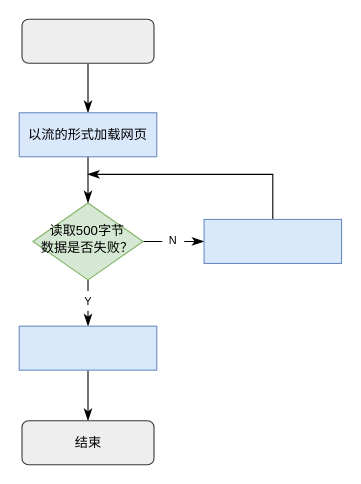
This 361x484 diagram has some shape labels left out. Here are the shapes that lost their labels. From the top down, the centre of each, then its label:
the point at 87,40: 开始
the point at 272,240: 发送数据
the point at 87,347: 退出读取
